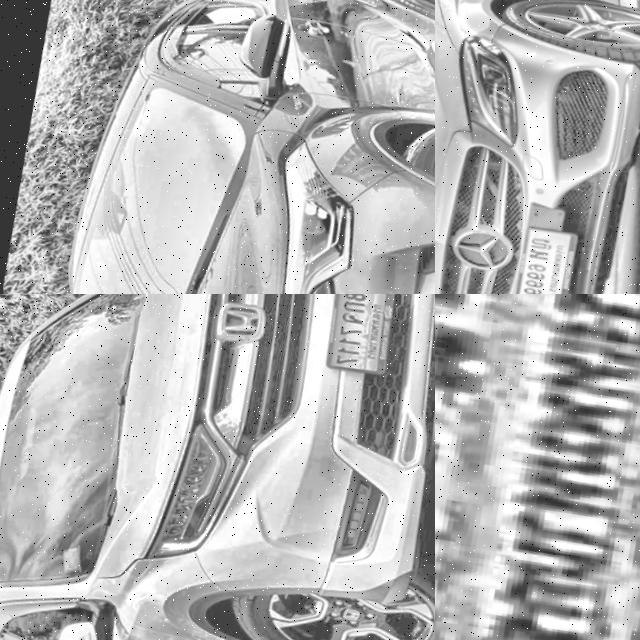license-plate: (435, 294, 640, 640), (310, 294, 403, 388), (500, 228, 576, 294)
